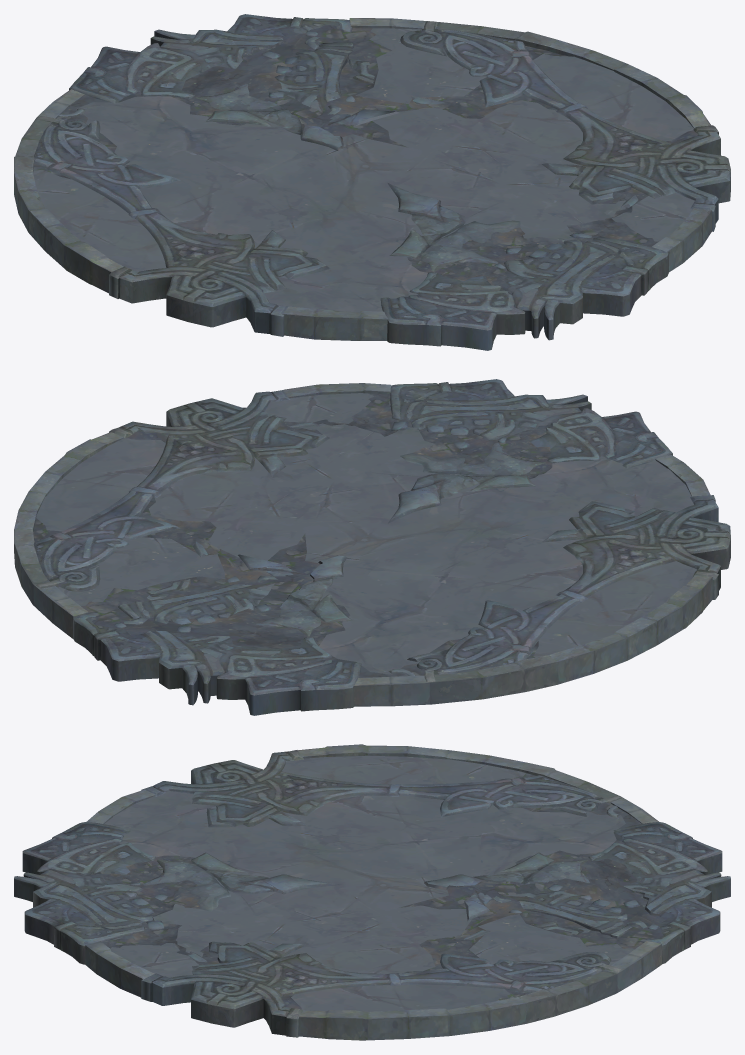
Rendered from Area_MdBuild_WdPlatform01.fbx.
3 views of the same model, one above another, from view 1: azimuth 30°, elevation 25°; view 2: azimuth 150°, elevation 25°; view 3: azimuth 270°, elevation 25° (orthographic). The views are drawn at different scales.
Visible parts, largest first — view 1: Area_MdBuild_WdPlatform01_Lod0; view 2: Area_MdBuild_WdPlatform01_Lod0; view 3: Area_MdBuild_WdPlatform01_Lod0.
Part boxes in pixels (x1,y1,x2,y2): Area_MdBuild_WdPlatform01_Lod0: [14, 14, 730, 350]; Area_MdBuild_WdPlatform01_Lod0: [14, 379, 730, 715]; Area_MdBuild_WdPlatform01_Lod0: [14, 744, 730, 1040].
Size of the model in its own units: 19.12 by 0.7153 by 21.12.
2 materials, 2 textured.
